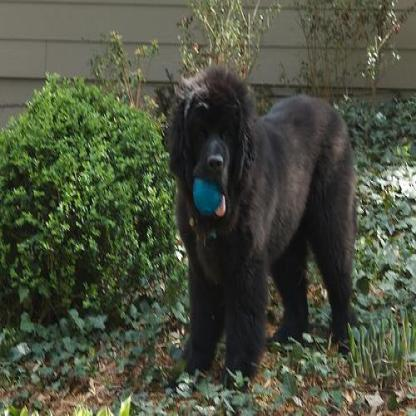Newfoundland: (159, 40, 366, 398)
